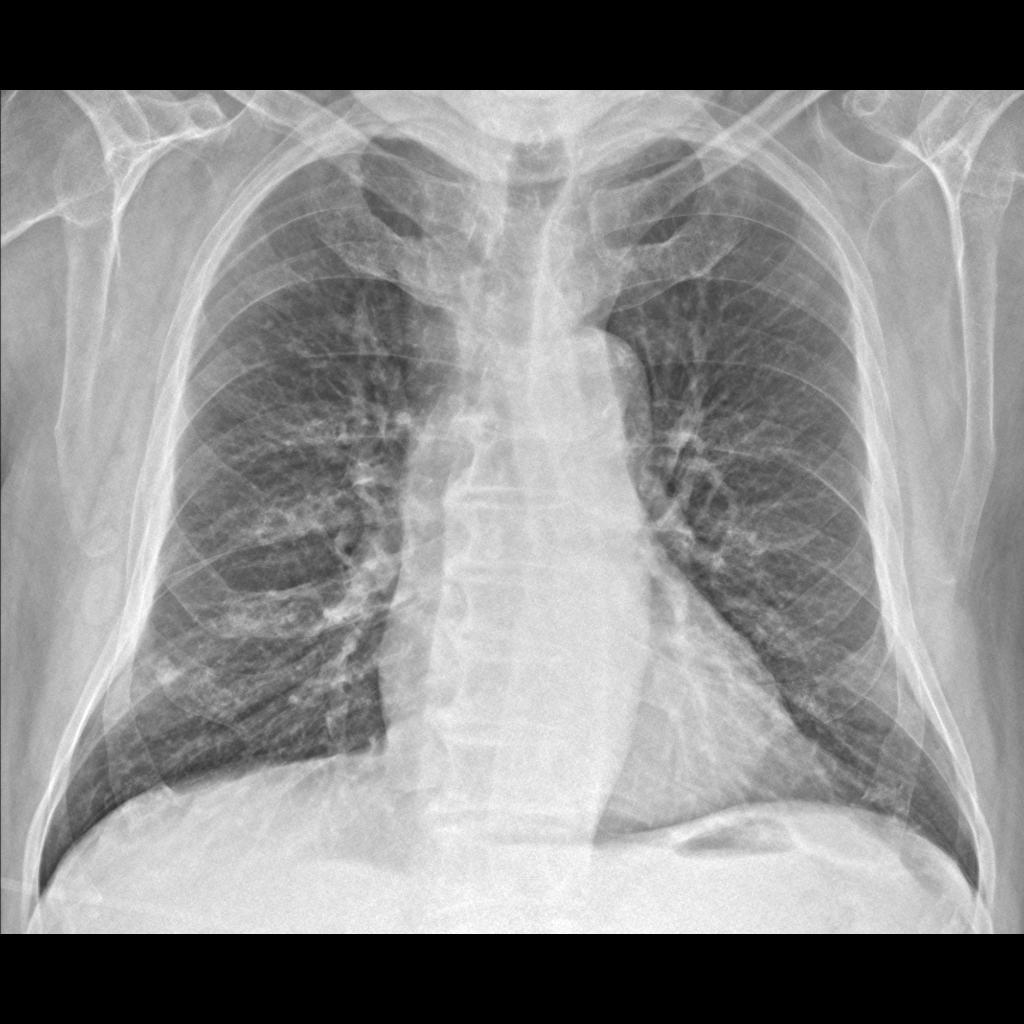Nodule: (148, 652, 188, 703)
